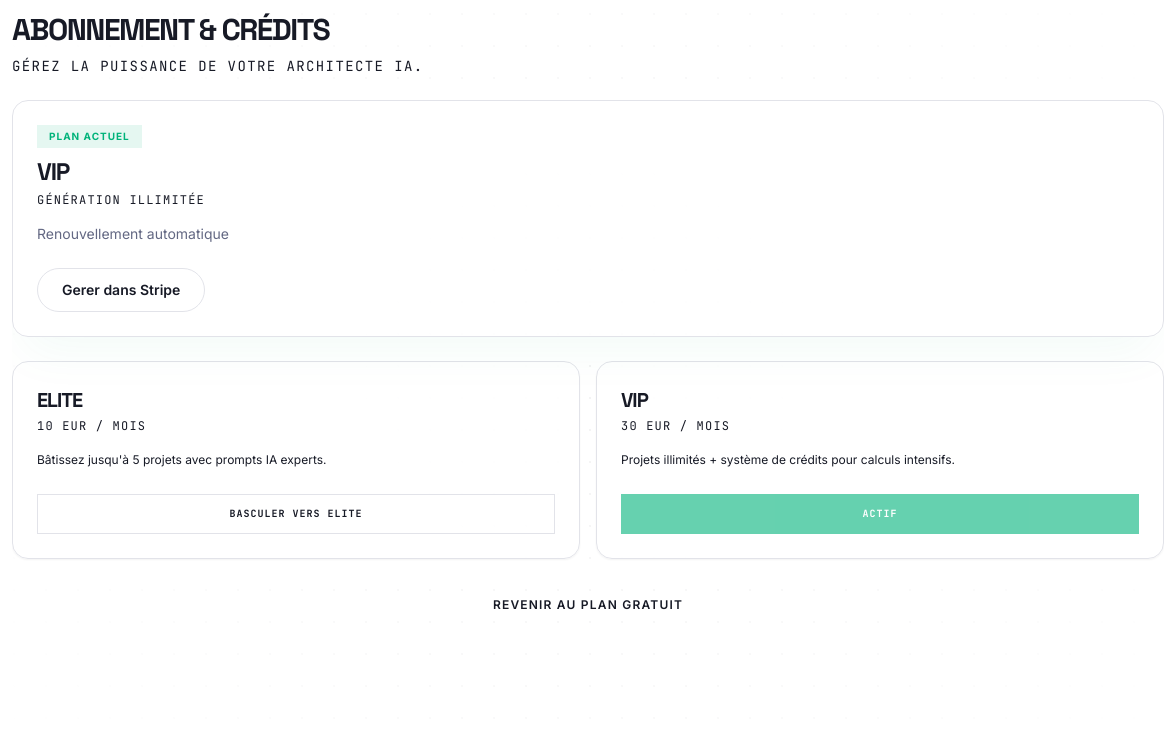
Scenario: Billing page › downgrades immediately without end-of-period scheduling flow
Click the button "Basculer vers ELITE". click: (296, 514)
box: [37, 494, 555, 534]
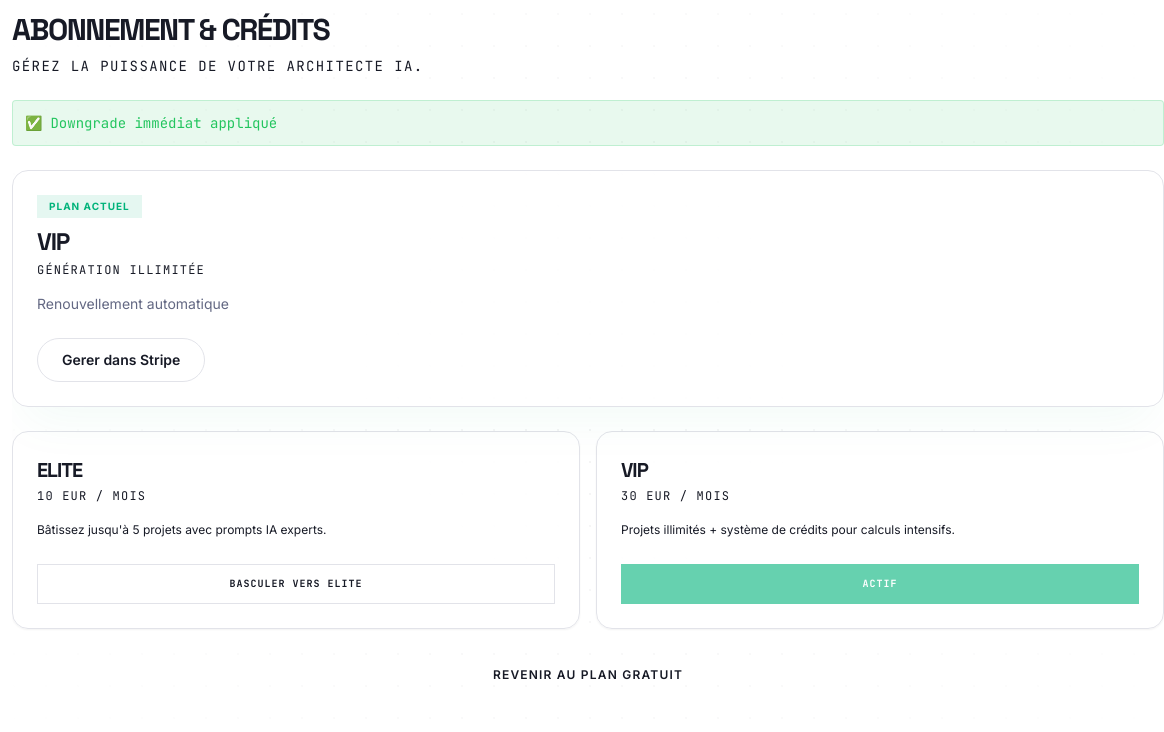
Expected: the text "✅ Downgrade immédiat appliqué" is shown, [12, 100, 1163, 146]
